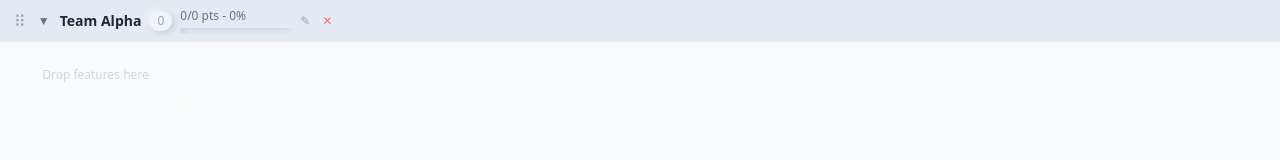
Scenario: SwimlaneRow › pressing Escape cancels rename and restores the name display
Click the button titled "Rename swimlane".
click(305, 21)  # box [300,13,310,29]
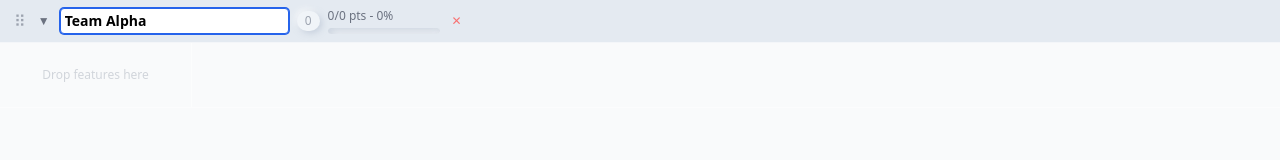
Check: the field is shown, box [60,8,289,34]
Press Escape
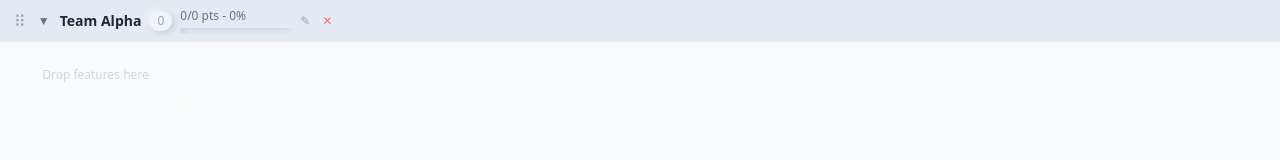
Check: the field is gone
Check: the text "Team Alpha" is shown, box [60,11,141,31]
